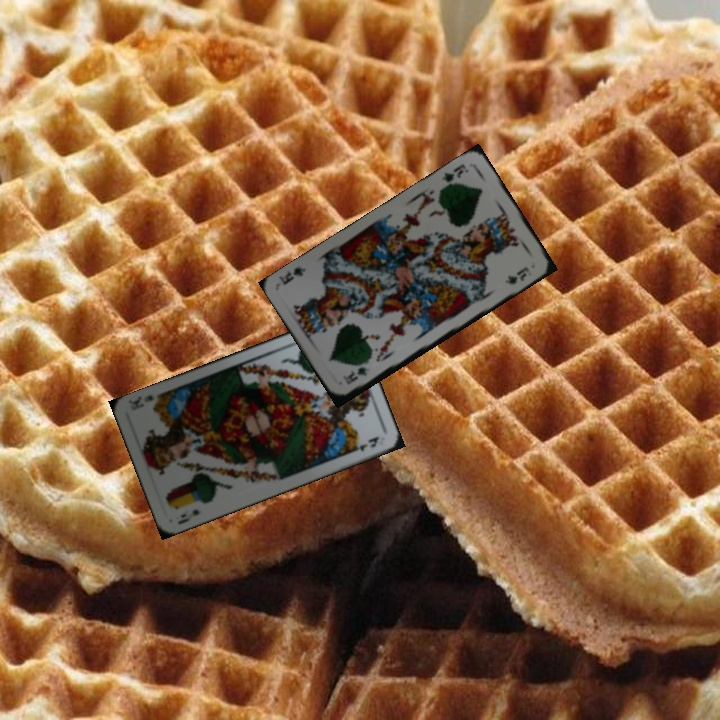EK: (174, 505, 202, 527)
GK: (437, 160, 471, 185), (340, 363, 372, 387)
